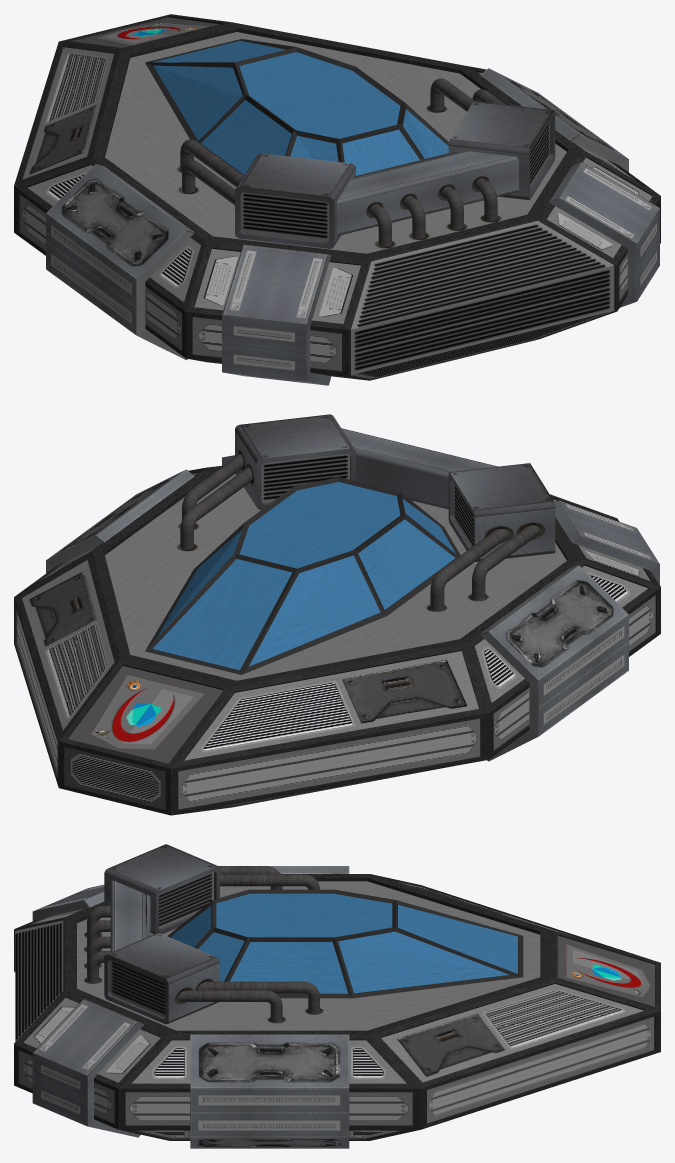
Rendered from ship_test_sirine.obj.
The picture shows the model from 3 angles, top to bottom: view 1: azimuth 30°, elevation 25°; view 2: azimuth 150°, elevation 25°; view 3: azimuth 270°, elevation 25°; orthographic projection. The views are drawn at different scales.
Bounding box in the file's own units: 0.7221 × 0.2448 × 0.9353.
